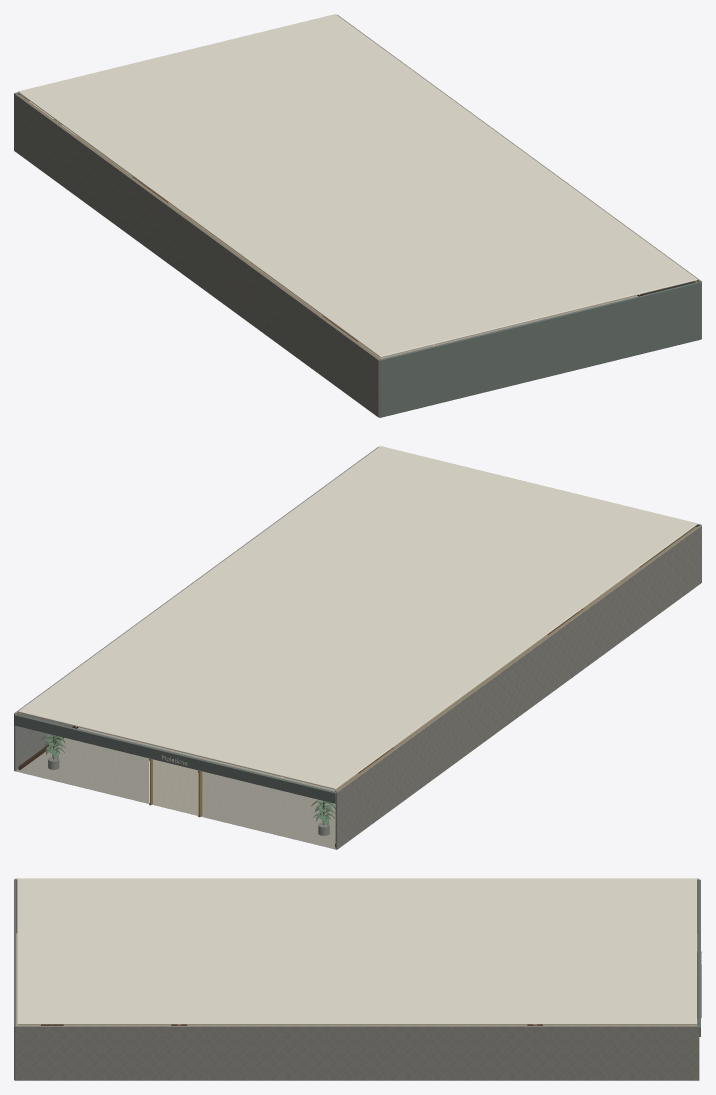
File: moleskine.glb
3 renders of one model, top to bottom at view 1: azimuth 30°, elevation 25°; view 2: azimuth 150°, elevation 25°; view 3: azimuth 270°, elevation 25°, orthographic. The views are drawn at different scales.
Parts seen in each view (by area): view 1: Batched AUR-B1-MOLESKINE::Warm porcelain, Batched AUR-B1-MOLESKINE::Travertine, Batched AUR-B1-MOLESKINE::Tenant moleskine, Tenant floor moleskine, Batched AUR-B1-MOLESKINE::Bronze; view 2: Batched AUR-B1-MOLESKINE::Warm porcelain, Batched AUR-B1-MOLESKINE::Travertine, Tenant floor moleskine, Batched AUR-B1-MOLESKINE::Tenant glass, Batched AUR-B1-MOLESKINE::Tenant moleskine, Batched AUR-B1-MOLESKINE::Bronze, Batched AUR-B1-MOLESKINE::Foliage; view 3: Batched AUR-B1-MOLESKINE::Warm porcelain, Batched AUR-B1-MOLESKINE::Travertine, Tenant floor moleskine, Batched AUR-B1-MOLESKINE::Tenant moleskine, Batched AUR-B1-MOLESKINE::Bronze.
Boxes of the visible parts, x1,y1,x2,y2 form: Batched AUR-B1-MOLESKINE::Warm porcelain: (18, 14, 697, 357); Batched AUR-B1-MOLESKINE::Travertine: (14, 14, 701, 417); Batched AUR-B1-MOLESKINE::Tenant moleskine: (14, 92, 701, 417); Tenant floor moleskine: (76, 135, 638, 359); Batched AUR-B1-MOLESKINE::Bronze: (19, 95, 697, 359); Batched AUR-B1-MOLESKINE::Warm porcelain: (18, 446, 697, 789); Batched AUR-B1-MOLESKINE::Travertine: (14, 446, 701, 849); Tenant floor moleskine: (15, 567, 639, 849); Batched AUR-B1-MOLESKINE::Tenant glass: (16, 726, 335, 848); Batched AUR-B1-MOLESKINE::Tenant moleskine: (14, 524, 701, 803); Batched AUR-B1-MOLESKINE::Bronze: (18, 527, 696, 817); Batched AUR-B1-MOLESKINE::Foliage: (40, 734, 335, 826); Batched AUR-B1-MOLESKINE::Warm porcelain: (17, 878, 701, 1024); Batched AUR-B1-MOLESKINE::Travertine: (15, 878, 699, 1080); Tenant floor moleskine: (16, 933, 697, 1025); Batched AUR-B1-MOLESKINE::Tenant moleskine: (14, 879, 700, 1080); Batched AUR-B1-MOLESKINE::Bronze: (19, 951, 701, 1025).
Size of the model in its own units: 28.16 by 4.97 by 55.29.
Materials: 11 (3 with a texture image).
